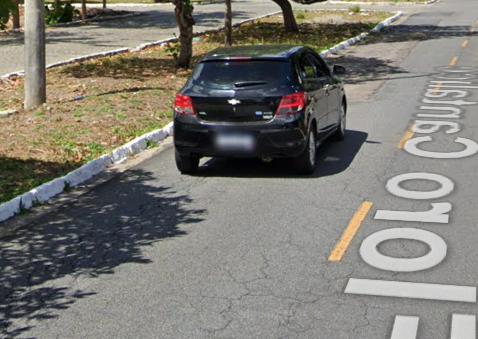car: (168, 39, 351, 187)
